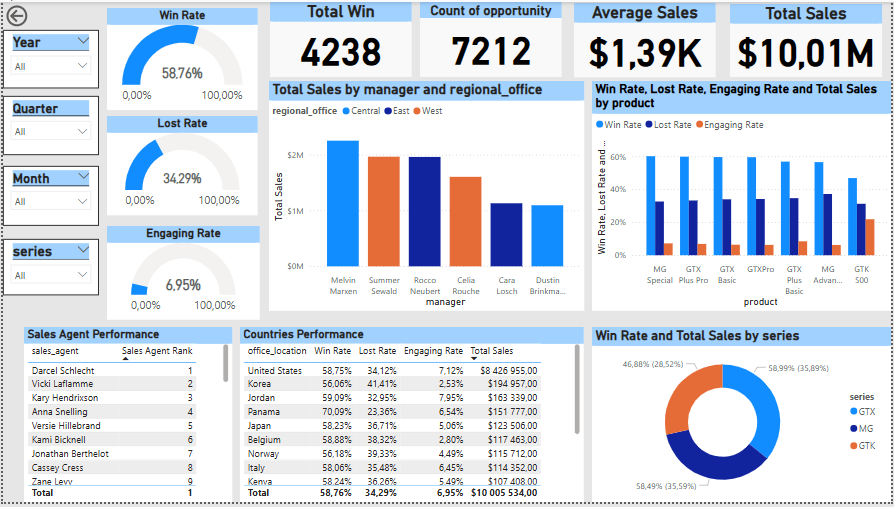

Layout of this report page (visuals, bound fields, positions):
{"tool":"powerbi","page":{"name":"Overview","canvas":[1280,720],"ordinal":0},"visuals":[{"type":"donutChart","fields":{"Category":["products.series"],"Y":["sales_pipeline.Win Rate"]},"box":[848.2,468,432,252],"z":0},{"type":"tableEx","title":"Countries Performance","fields":{"Values":["accounts.office_location","sales_pipeline.Win Rate","sales_pipeline.Lost Rate","sales_pipeline.Engaging Rate","sales_pipeline.Total Sales"]},"box":[341.3,468,495.4,252],"z":1000},{"type":"clusteredColumnChart","fields":{"Category":["products.product"],"Y":["sales_pipeline.Win Rate","sales_pipeline.Lost Rate","sales_pipeline.Engaging Rate"]},"box":[848.2,113.8,432,331.2],"z":2000},{"type":"columnChart","fields":{"Category":["sales_teams.manager"],"Y":["sales_pipeline.Total Sales"],"Series":["sales_teams.regional_office"]},"box":[383,113.8,453.6,331.2],"z":3000},{"type":"gauge","fields":{"Y":["sales_pipeline.Win Rate"]},"box":[149.8,8.6,217.4,146.9],"z":6000},{"type":"card","title":"Total Sales","fields":{"Values":["sales_pipeline.Total Sales"]},"box":[1046.9,2.9,218.9,105.1],"z":7000},{"type":"tableEx","title":"Sales Agent Performance","fields":{"Values":["sales_teams.sales_agent","sales_pipeline.Sales Agent Rank"]},"box":[30.2,468,299.5,252],"z":10000},{"type":"actionButton","box":[0,0,100,40],"z":11000},{"type":"slicer","fields":{"Values":["Date.Year"]},"box":[0,40.3,138.2,83.5],"z":12000},{"type":"slicer","fields":{"Values":["Date.Month"]},"box":[0,236.2,138.2,86.4],"z":13000},{"type":"slicer","fields":{"Values":["Date.Quarter"]},"box":[0,135.4,138.2,85],"z":14000},{"type":"slicer","fields":{"Values":["products.series"]},"box":[0,341.3,138.2,80.6],"z":15000},{"type":"gauge","fields":{"Y":["sales_pipeline.Lost Rate"]},"box":[149.8,164.2,217.4,142.6],"z":15001},{"type":"gauge","fields":{"Y":["sales_pipeline.Engaging Rate"]},"box":[149.8,322.6,220.3,135.4],"z":15002},{"type":"card","title":"Average Sales","fields":{"Values":["sales_pipeline.Average Sales"]},"box":[822.2,1.4,204.5,106.6],"z":15003},{"type":"card","title":"Count of opportunity","fields":{"Values":["sales_pipeline.Count of Opportunities"]},"box":[600.5,0,204.5,108],"z":15004},{"type":"card","title":"Total Win","fields":{"Values":["sales_pipeline.Count Win"]},"box":[384.5,0,204.5,108],"z":15005}]}

Visuals, with their boxes in screenshot pixels (x1, y1, x2, y2), scaled from the page's 1280x720 canvas onto the 894x507 screenshot:
donutChart - products.series x sales_pipeline.Win Rate: (592,330,893,506)
"Countries Performance" tableEx: (238,330,584,506)
clusteredColumnChart - products.product x sales_pipeline.Win Rate: (592,80,893,313)
columnChart - sales_teams.manager x sales_pipeline.Total Sales: (268,80,584,313)
gauge - sales_pipeline.Win Rate: (105,6,256,109)
"Total Sales" card: (731,2,884,76)
"Sales Agent Performance" tableEx: (21,330,230,506)
actionButton: (0,0,70,28)
slicer - Date.Year: (0,28,97,87)
slicer - Date.Month: (0,166,97,227)
slicer - Date.Quarter: (0,95,97,155)
slicer - products.series: (0,240,97,297)
gauge - sales_pipeline.Lost Rate: (105,116,256,216)
gauge - sales_pipeline.Engaging Rate: (105,227,258,323)
"Average Sales" card: (574,1,717,76)
"Count of opportunity" card: (419,0,562,76)
"Total Win" card: (269,0,411,76)
